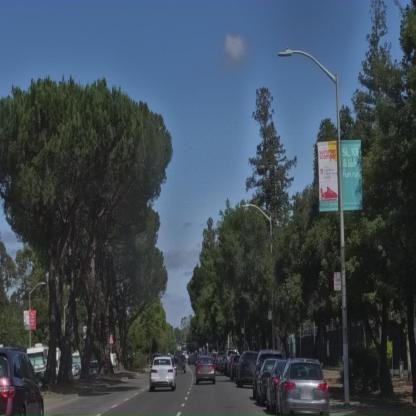car: (269, 358, 330, 416), (0, 347, 46, 415), (252, 356, 284, 406), (150, 357, 176, 392), (238, 353, 260, 388), (194, 359, 216, 385), (227, 354, 241, 378)
